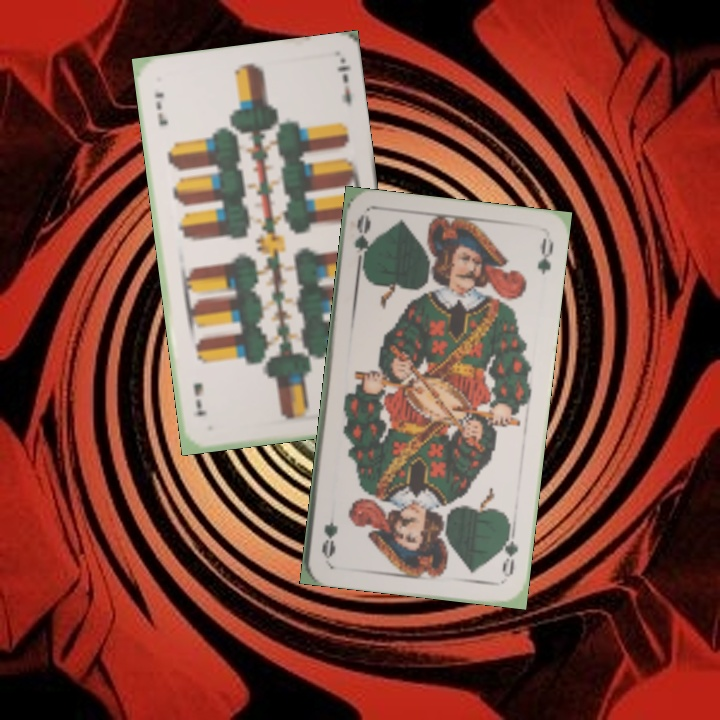E7: (151, 87, 171, 128)
GO: (497, 522, 521, 580), (350, 213, 373, 272)
